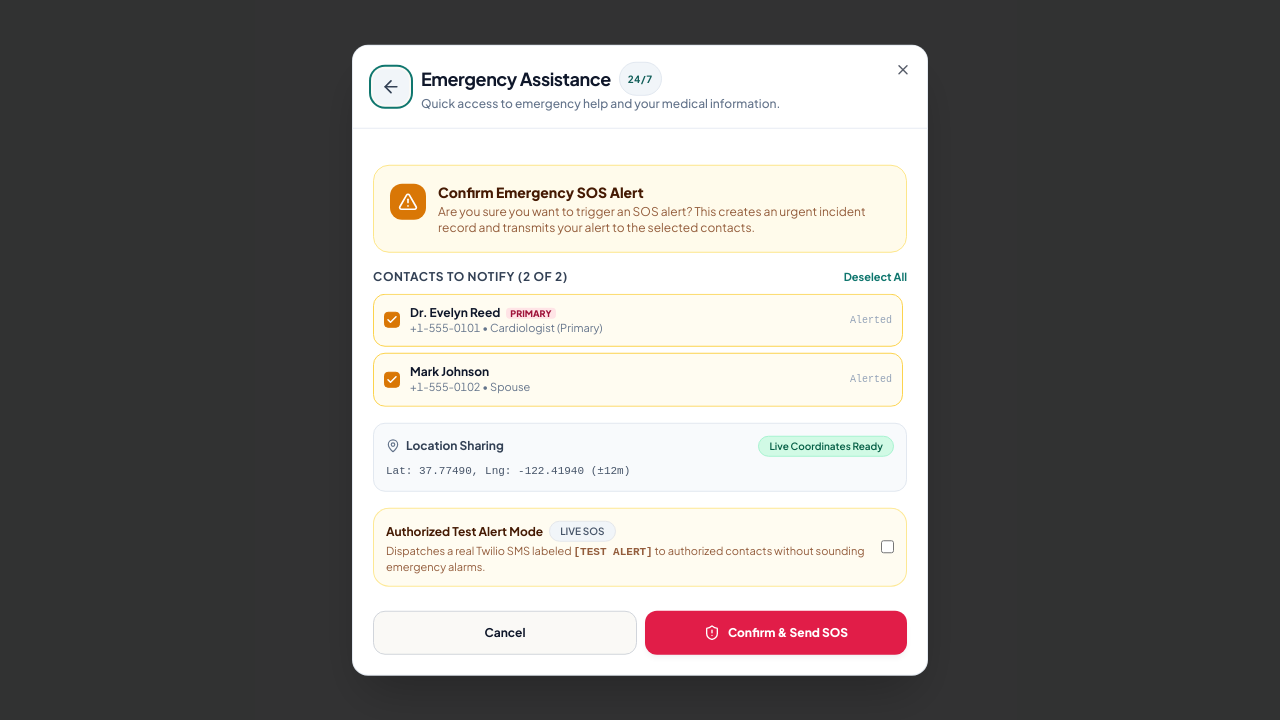
Scenario: EmergencyModal — Global SOS Dialog & Safety Workflows › SOS confirmation transmits alert, prevents duplicate clicks, and shows honest delivery state
The image size is (1280, 720).
Expected: the heading "Confirm Emergency SOS Alert" is shown, [438,183,644,201]
What coordinates should you click on to do the following:
click the button "Confirm & Send SOS"
I would click on:
 (776, 632)
Its box is [645,610,907,654].
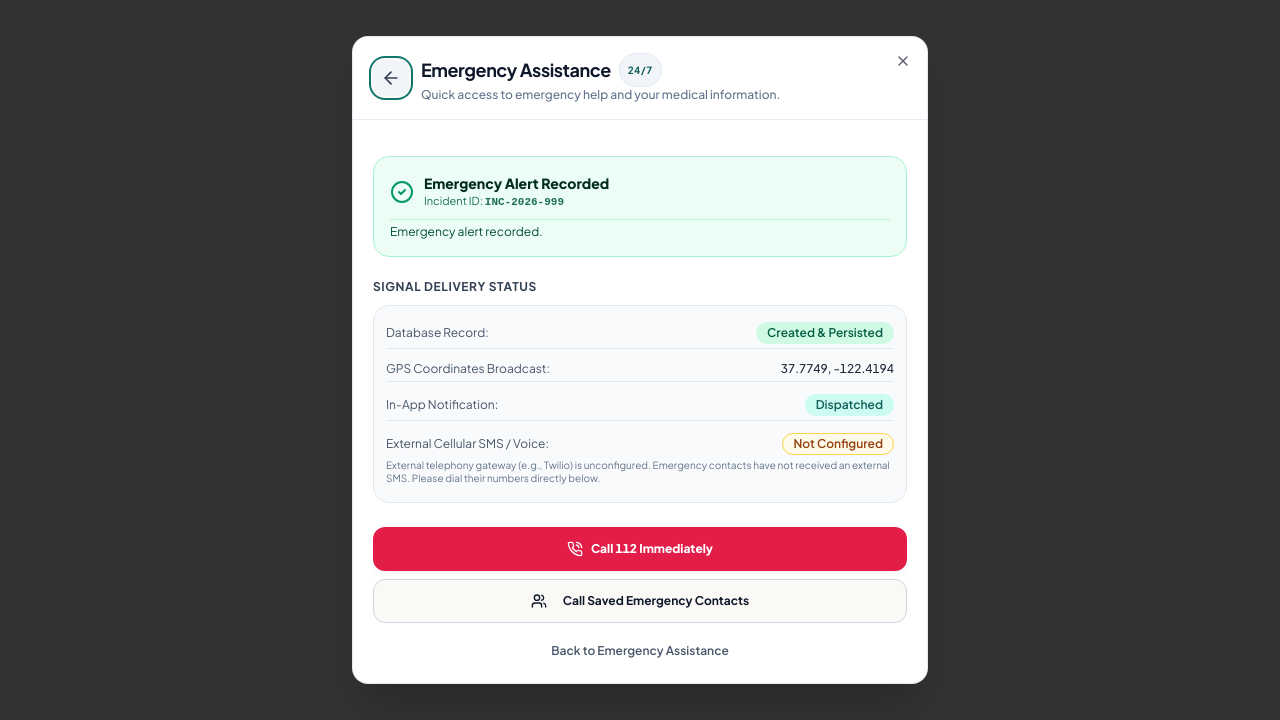
Expected: the heading "Emergency Alert Recorded" is shown, [424,173,609,193]
Expected: the text "Incident ID: INC-2026-999" is shown, [424,194,564,208]
Expected: the text "Not Configured" is shown, [782,432,894,454]
